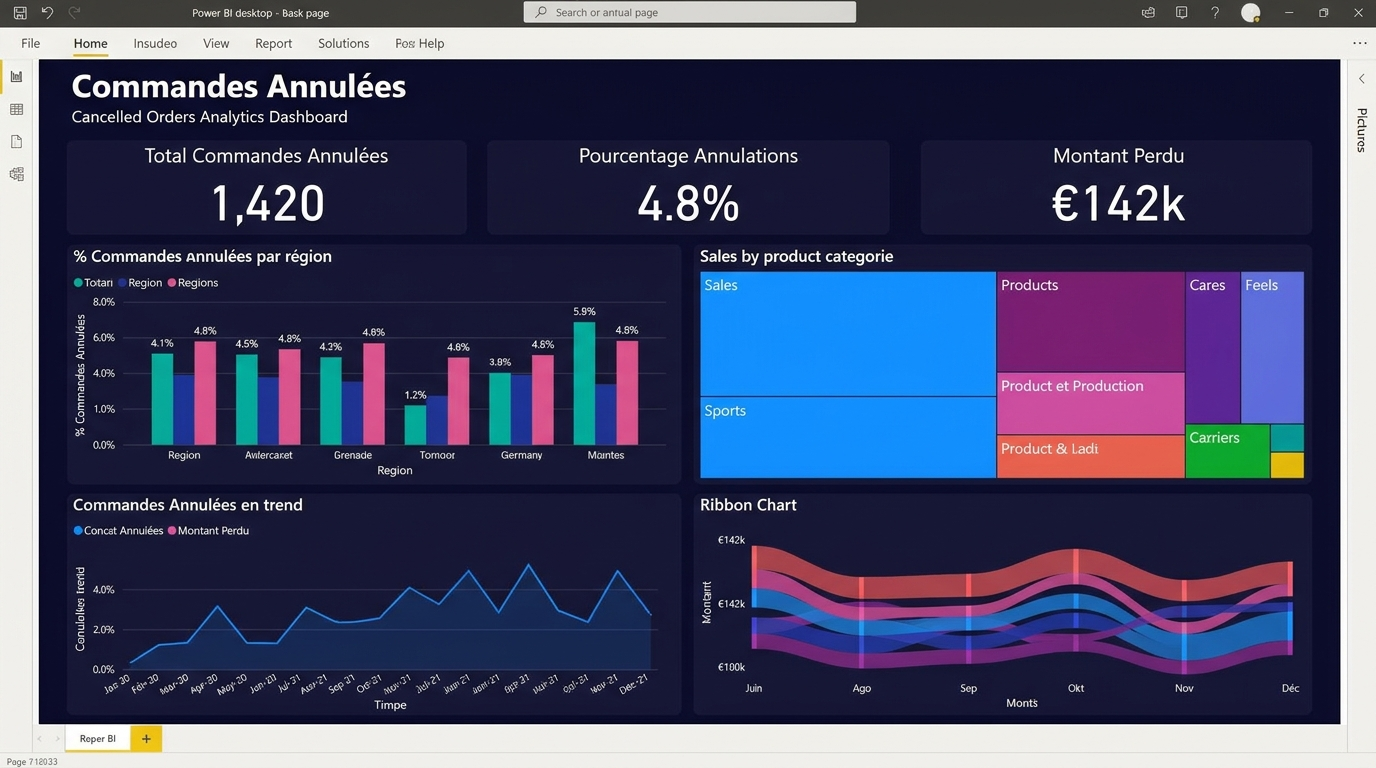

The dashboard page shown, as its layout file describes it:
{"tool":"powerbi","page":{"name":"Commandes annulées","canvas":[1280,2000],"ordinal":1},"visuals":[{"type":"shape","box":[0,0,86.5,1450.2],"z":0},{"type":"shape","box":[117.3,9.4,1163.2,71.5],"z":1000},{"type":"shape","box":[1527,158.2,386.8,223.5],"z":2000},{"type":"shape","box":[117.6,676.7,551,307.8],"z":3000},{"type":"shape","box":[126.7,1027.6,1127.8,422.3],"z":4000},{"type":"shape","box":[718.2,676.7,551,307.8],"z":5000},{"type":"textbox","box":[164.2,21.9,381.7,46.9],"z":6000},{"type":"cardVisual","fields":{"Data":["Mesure.Total de commandes annulées","Mesure.Montant commandes annulées","Mesure.Pourcentage de commandes annulées"]},"box":[106.4,92.3,1163.7,178.3],"z":7000},{"type":"shape","box":[106.4,287.8,1173.1,362.9],"z":8000},{"type":"lineChart","title":"Evolution des commandes annulées","fields":{"Category":["vente.OrderDate.Variation.Hiérarchie de dates.Année","vente.OrderDate.Variation.Hiérarchie de dates.Trimestre","vente.OrderDate.Variation.Hiérarchie de dates.Mois"],"Y":["Mesure.Montant commandes annulées"],"Y2":["Mesure.Pourcentage de commandes annulées"]},"box":[115.7,294.1,1141.8,348.8],"z":9000},{"type":"clusteredColumnChart","title":"Pourcentage de commandes annulées par région","fields":{"Category":["region.RegionName"],"Y":["Mesure.Pourcentage de commandes annulées"]},"box":[117.3,696,522.4,289.4],"z":10000},{"type":"treemap","title":"Chiffre d''affaires par catégories de produits","fields":{"Details":["produit.ProductName"],"Group":["produit.Category"],"Values":["Sum(vente.Quantity)"]},"box":[732,685.1,522.4,289.4],"z":11000},{"type":"slicer","fields":{"Values":["region.RegionName"]},"box":[599.1,14.1,264.3,54.7],"z":12000},{"type":"slicer","fields":{"Values":["vente.OrderDate"]},"box":[960.4,4.7,308.1,76.6],"z":13000},{"type":"ribbonChart","title":"Commandes annulées","fields":{"Category":["vente.OrderDate.Variation.Hiérarchie de dates.Année","vente.OrderDate.Variation.Hiérarchie de dates.Trimestre","vente.OrderDate.Variation.Hiérarchie de dates.Mois"],"Series":["produit.ProductName"],"Y":["Mesure.Total de commandes annulées"]},"box":[137.6,1063.6,1101.2,350.4],"z":14000},{"type":"image","box":[4.7,10.9,73.5,81.3],"z":15000},{"type":"shape","box":[0,101.7,86,87.6],"z":16000},{"type":"image","box":[7.8,107.9,70.4,73.5],"z":17000}]}

Visuals, with their boxes on the page's 1280x2000 design canvas (x1, y1, x2, y2). These are canvas units, not pixel positions in the 1376x768 screenshot, which may show the page scaled, cropped or inside an application window:
shape: Rect(0, 0, 86, 1450)
shape: Rect(117, 9, 1280, 81)
shape: Rect(1527, 158, 1914, 382)
shape: Rect(118, 677, 669, 984)
shape: Rect(127, 1028, 1254, 1450)
shape: Rect(718, 677, 1269, 984)
textbox: Rect(164, 22, 546, 69)
cardVisual - Mesure.Total de commandes annulées x Mesure.Montant commandes annulées: Rect(106, 92, 1270, 271)
shape: Rect(106, 288, 1280, 651)
"Evolution des commandes annulées" lineChart: Rect(116, 294, 1258, 643)
"Pourcentage de commandes annulées par région" clusteredColumnChart: Rect(117, 696, 640, 985)
"Chiffre d''affaires par catégories de produits" treemap: Rect(732, 685, 1254, 974)
slicer - region.RegionName: Rect(599, 14, 863, 69)
slicer - vente.OrderDate: Rect(960, 5, 1268, 81)
"Commandes annulées" ribbonChart: Rect(138, 1064, 1239, 1414)
image: Rect(5, 11, 78, 92)
shape: Rect(0, 102, 86, 189)
image: Rect(8, 108, 78, 181)
